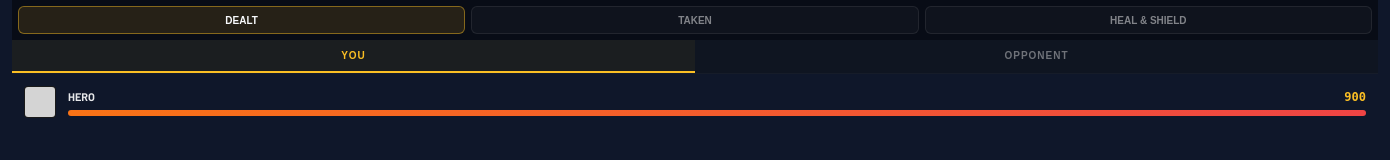
DamageReport › shows post-mitigation damage taken per unit
Click the button with class "metric-tab-btn" showing "Taken": (695, 20) [471, 6, 919, 34]
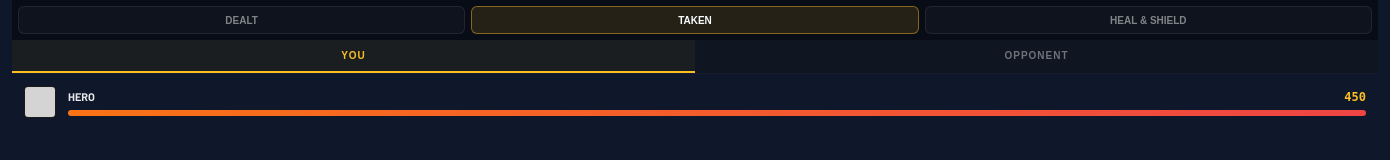
Expected: the text with class "unit-name" reads "Hero", [68, 90, 95, 103]
Expected: the text with class "dmg-val" reads "450", [1344, 90, 1366, 104]
